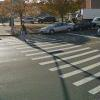Crosswalk: (17, 33, 99, 93)
